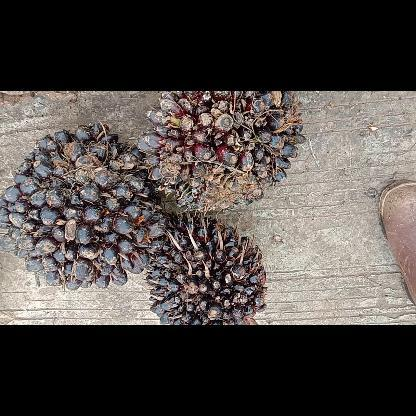TBS mentah: (0, 118, 167, 292), (132, 90, 308, 218), (144, 210, 270, 324)
